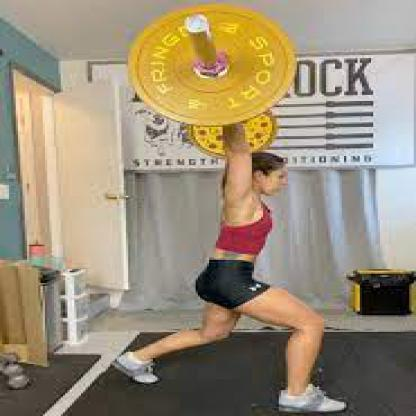barbell: (130, 5, 297, 157)
